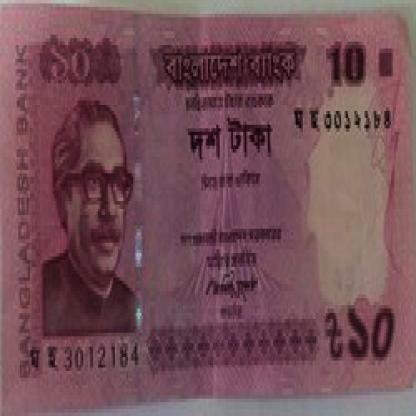Ten Taka: (313, 292, 404, 375), (320, 28, 382, 97), (42, 24, 102, 94)
